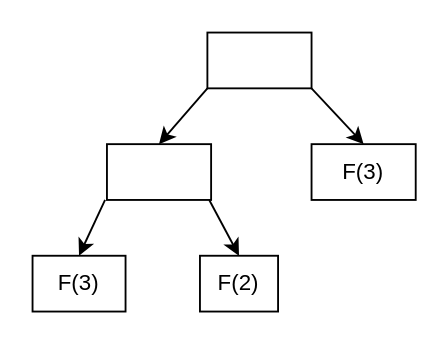
Image size: 448x344. Some labels were removed from this diagram. Here are the shapes that lost their labels. From the top down, the centre of each, then its label:
At point 259,59: "F(5)".
At point 158,171: "F(4)".
